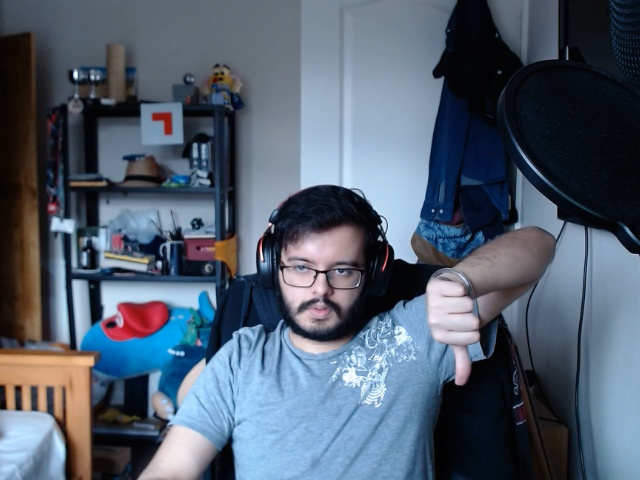Thumbs down: (423, 266, 489, 385)
